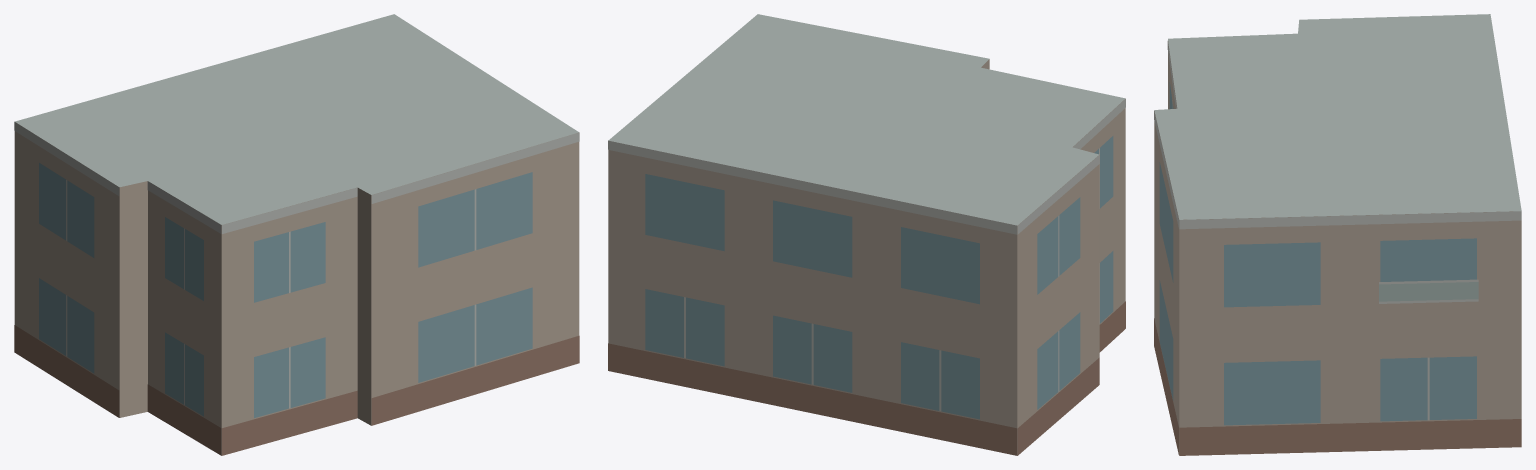
The model's file is survey-upis-32669402.glb.
The picture shows the model from 3 angles, left to right: view 1: azimuth 30°, elevation 25°; view 2: azimuth 150°, elevation 25°; view 3: azimuth 270°, elevation 25°; orthographic projection. The views are drawn at different scales.
Visible parts, largest first — view 1: survey-upis-32669402.tmp; view 2: survey-upis-32669402.tmp; view 3: survey-upis-32669402.tmp.
Part boxes in pixels (left/top/right/bottom): survey-upis-32669402.tmp: left=14, top=14, right=579, bottom=455; survey-upis-32669402.tmp: left=608, top=14, right=1125, bottom=455; survey-upis-32669402.tmp: left=1154, top=14, right=1521, bottom=455.
Size of the model in its own units: 11.42 by 6.1 by 8.62.
